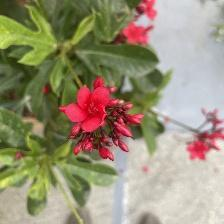jatropha: (63, 86, 112, 133)
